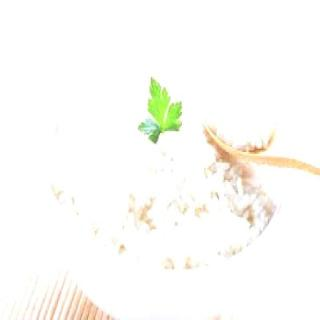Nasi: (45, 44, 278, 270), (205, 93, 277, 154)
